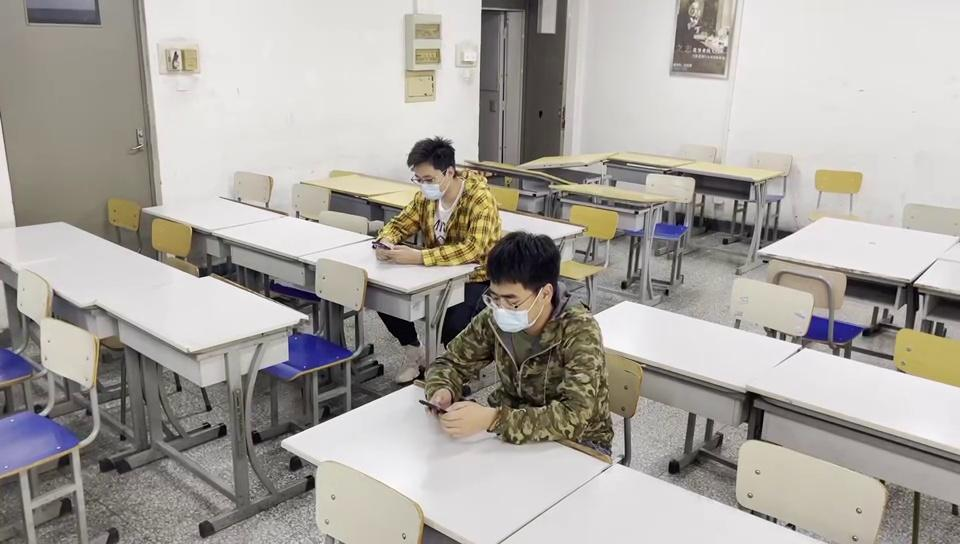phone: (425, 266, 602, 440), (374, 140, 487, 261)
